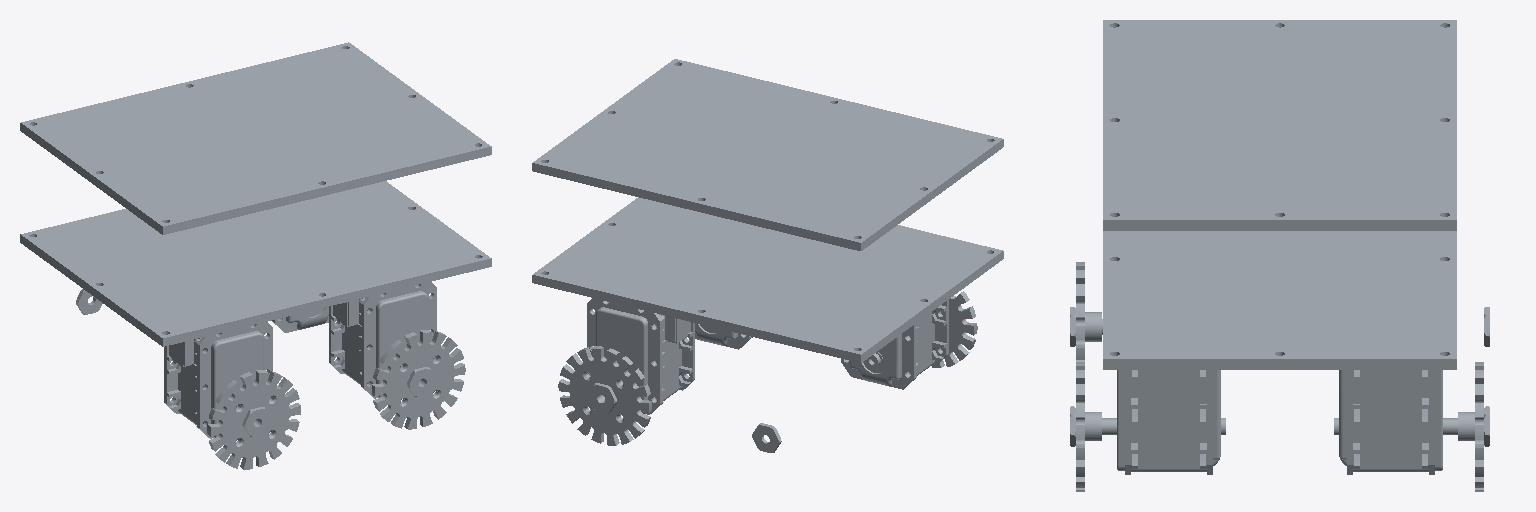
URDF robot description (omnirobot):
<?xml version="1.0" ?>
<!-- =================================================================================== -->
<!-- |    This document was autogenerated by xacro from src/omnirobot_description/urdf/main.xacro | -->
<!-- |    EDITING THIS FILE BY HAND IS NOT RECOMMENDED                                 | -->
<!-- =================================================================================== -->
<robot name="omnirobot">

  <!-- ##################################################################################################### -->
  <material name="Orange">
    <color rgba="1.0 0.4 0.0 1.0"/>
  </material>
  <material name="Grey">
    <color rgba="0.7 0.7 0.7 1.0"/>
  </material>
  <material name="DarkGrey">
    <color rgba="0.3 0.3 0.3 1.0"/>
  </material>
  <material name="White">
    <color rgba="1.0 1.0 1.0 1.0"/>
  </material>
  <material name="Black">
    <color rgba="0.0 0.0 0.0 1.0"/>
  </material>
  <material name="Red">
    <color rgba="1.0 0.0 0.0 1.0"/>
  </material>
  <material name="Green">
    <color rgba="0.0 1.0 0.0 1.0"/>
  </material>
  <material name="Blue">
    <color rgba="0.0 0.0 0.8 1.0"/>
  </material>
  <material name="LightGrey">
    <color rgba="0.82 0.82 0.82 1.0"/>
  </material>
  <!--Generated by RobotCAD, a ROS Workbench for FreeCAD (https://github.com/drfenixion/freecad.robotcad)-->
  <link name="l_MX_001">
    <visual>
      <!--MX_001/MX_001.Part__Feature001.-->
      <origin rpy="-3.1415926535897927 0 0" xyz="-0.015 0.0045 0.016"/>
      <geometry>
        <mesh filename="package://omnirobot_description/meshes/dc07_00a_dummy_none.dae"/>
      </geometry>
    </visual>
    <inertial>
      <mass value="0.05364148533505816"/>
      <origin rpy="-3.1415926535897927 0 0" xyz="-0.015 0.0160155 0.0150318"/>
      <inertia ixx="1.511749261621702e-05" ixy="4.447254957121814e-14" ixz="-2.3950835100348136e-14" iyy="9.28145935548608e-06" iyz="-2.2661589904935743e-07" izz="1.2808173883120847e-05"/>
    </inertial>
  </link>
  <link name="l_MX_003">
    <visual>
      <!--MX_003/MX_002.Part__Feature002.-->
      <origin rpy="-3.1415926535897927 0 0" xyz="-0.015 0.0045 0.016"/>
      <geometry>
        <mesh filename="package://omnirobot_description/meshes/dc07_00a_dummy_none001.dae"/>
      </geometry>
    </visual>
    <inertial>
      <mass value="0.05364148533505816"/>
      <origin rpy="-3.1415926535897927 0 0" xyz="-0.015 0.0160155 0.0150318"/>
      <inertia ixx="1.511749261621702e-05" ixy="4.447254957121814e-14" ixz="-2.3950835100348136e-14" iyy="9.28145935548608e-06" iyz="-2.2661589904935743e-07" izz="1.2808173883120847e-05"/>
    </inertial>
  </link>
  <link name="l_MX_005">
    <visual>
      <!--MX_005/MX_003.Part__Feature003.-->
      <origin rpy="3.1415926535897927 0 0" xyz="0.015 0.0045 0.016"/>
      <geometry>
        <mesh filename="package://omnirobot_description/meshes/dc07_00a_dummy_none002.dae"/>
      </geometry>
    </visual>
    <inertial>
      <mass value="0.05364148533505816"/>
      <origin rpy="3.1415926535897927 0 0" xyz="0.015 0.0160155 0.0150318"/>
      <inertia ixx="1.511749261621702e-05" ixy="4.447254957121814e-14" ixz="-2.3950835100348136e-14" iyy="9.28145935548608e-06" iyz="-2.2661589904935743e-07" izz="1.2808173883120847e-05"/>
    </inertial>
  </link>
  <link name="l_MX_007">
    <visual>
      <!--MX_007/MX_004.Part__Feature004.-->
      <origin rpy="3.1415926535897927 0 0" xyz="-0.015 0.0045 0.016"/>
      <geometry>
        <mesh filename="package://omnirobot_description/meshes/dc07_00a_dummy_none003.dae"/>
      </geometry>
    </visual>
    <inertial>
      <mass value="0.05364148533505816"/>
      <origin rpy="3.1415926535897927 0 0" xyz="-0.015 0.0160155 0.0150318"/>
      <inertia ixx="1.511749261621702e-05" ixy="4.447254957121814e-14" ixz="-2.3950835100348136e-14" iyy="9.28145935548608e-06" iyz="-2.2661589904935743e-07" izz="1.2808173883120847e-05"/>
    </inertial>
  </link>
  <link name="l_OmniWheel001">
    <visual>
      <!--OmniWheel001/OmniWheel004.Part__Feature005.-->
      <origin rpy="3.1415926535897927 0 0" xyz="-0.00480373 -0.000638646 0.0345"/>
      <geometry>
        <mesh filename="package://omnirobot_description/meshes/omnibase_predeterminado.dae"/>
      </geometry>
    </visual>
    <visual>
      <!--OmniWheel001/OmniWheel004.Part__Feature006.-->
      <origin rpy="3.1415926535897927 0 0" xyz="-0.00480373 -0.000638646 0.0345"/>
      <geometry>
        <mesh filename="package://omnirobot_description/meshes/nut_predeterminado.dae"/>
      </geometry>
    </visual>
    <visual>
      <!--OmniWheel001/OmniWheel004.Part__Feature007.-->
      <origin rpy="3.1415926535897927 0 0" xyz="-0.00480373 -0.000638646 0.0345"/>
      <geometry>
        <mesh filename="package://omnirobot_description/meshes/fusion001.dae"/>
      </geometry>
    </visual>
    <collision>
      <!--col__l_OmniWheel001__col_OmniWheel1__BoundCylinder/col_OmniWheel1__BoundCylinder.-->
      <origin rpy="3.1415926535897927 0 0" xyz="0.0 0.0 -0.00555962"/>
      <geometry>
        <cylinder length="0.011119233388594999" radius="0.025"/>
      </geometry>
    </collision>
    <inertial>
      <mass value="0.007756331734211842"/>
      <origin rpy="3.1415926535897927 0 0" xyz="0.0 0.0 -0.00717912"/>
      <inertia ixx="1.0724369027895746e-06" ixy="-2.97042574675288e-16" ixz="-1.1719328085746382e-21" iyy="1.0724369024465381e-06" iyz="1.6543026504223233e-22" izz="2.0925962450240802e-06"/>
    </inertial>
  </link>
  <link name="l_OmniWheel003">
    <visual>
      <!--OmniWheel003/OmniWheel005.Part__Feature008.-->
      <origin rpy="3.1415926535897927 0 0" xyz="-0.00480373 -0.000638646 0.0345"/>
      <geometry>
        <mesh filename="package://omnirobot_description/meshes/omnibase_predeterminado001.dae"/>
      </geometry>
    </visual>
    <visual>
      <!--OmniWheel003/OmniWheel005.Part__Feature009.-->
      <origin rpy="3.1415926535897927 0 0" xyz="-0.00480373 -0.000638646 0.0345"/>
      <geometry>
        <mesh filename="package://omnirobot_description/meshes/nut_predeterminado001.dae"/>
      </geometry>
    </visual>
    <visual>
      <!--OmniWheel003/OmniWheel005.Part__Feature010.-->
      <origin rpy="3.1415926535897927 0 0" xyz="-0.00480373 -0.000638646 0.0345"/>
      <geometry>
        <mesh filename="package://omnirobot_description/meshes/fusion002.dae"/>
      </geometry>
    </visual>
    <collision>
      <!--col__l_OmniWheel003__col_OmniWheel2__BoundCylinder/col_OmniWheel2__BoundCylinder.-->
      <origin rpy="3.1415926535897927 0 0" xyz="0.0 0.0 -0.00555962"/>
      <geometry>
        <cylinder length="0.011119233388594999" radius="0.025"/>
      </geometry>
    </collision>
    <inertial>
      <mass value="0.007756331734211842"/>
      <origin rpy="3.1415926535897927 0 0" xyz="0.0 0.0 -0.00717912"/>
      <inertia ixx="1.0724369027895746e-06" ixy="-2.97042574675288e-16" ixz="-1.1719328085746382e-21" iyy="1.0724369024465381e-06" iyz="1.6543026504223233e-22" izz="2.0925962450240802e-06"/>
    </inertial>
  </link>
  <link name="l_OmniWheel005">
    <visual>
      <!--OmniWheel005/OmniWheel006.Part__Feature011.-->
      <origin rpy="-3.141592653589793 0 0" xyz="-0.00480373 -0.000638646 0.0345"/>
      <geometry>
        <mesh filename="package://omnirobot_description/meshes/omnibase_predeterminado002.dae"/>
      </geometry>
    </visual>
    <visual>
      <!--OmniWheel005/OmniWheel006.Part__Feature012.-->
      <origin rpy="-3.141592653589793 0 0" xyz="-0.00480373 -0.000638646 0.0345"/>
      <geometry>
        <mesh filename="package://omnirobot_description/meshes/nut_predeterminado002.dae"/>
      </geometry>
    </visual>
    <visual>
      <!--OmniWheel005/OmniWheel006.Part__Feature013.-->
      <origin rpy="-3.141592653589793 0 0" xyz="-0.00480373 -0.000638646 0.0345"/>
      <geometry>
        <mesh filename="package://omnirobot_description/meshes/fusion003.dae"/>
      </geometry>
    </visual>
    <collision>
      <!--col__l_OmniWheel005__col_OmniWheel3__BoundCylinder/col_OmniWheel3__BoundCylinder.-->
      <origin rpy="-3.141592653589793 0 0" xyz="0.0 0.0 -0.00555962"/>
      <geometry>
        <cylinder length="0.011119233388594999" radius="0.025"/>
      </geometry>
    </collision>
    <inertial>
      <mass value="0.007756331734211842"/>
      <origin rpy="-3.141592653589793 0 0" xyz="0.0 0.0 -0.00717912"/>
      <inertia ixx="1.0724369027895746e-06" ixy="-2.97042574675288e-16" ixz="-1.1719328085746382e-21" iyy="1.0724369024465381e-06" iyz="1.6543026504223233e-22" izz="2.0925962450240802e-06"/>
    </inertial>
  </link>
  <link name="l_OmniWheel007">
    <visual>
      <!--OmniWheel007/OmniWheel007.Part__Feature014.-->
      <origin rpy="-3.1415926535897927 0 0" xyz="-0.00480373 -0.000638646 0.0345"/>
      <geometry>
        <mesh filename="package://omnirobot_description/meshes/omnibase_predeterminado003.dae"/>
      </geometry>
    </visual>
    <visual>
      <!--OmniWheel007/OmniWheel007.Part__Feature015.-->
      <origin rpy="-3.1415926535897927 0 0" xyz="-0.00480373 -0.000638646 0.0345"/>
      <geometry>
        <mesh filename="package://omnirobot_description/meshes/nut_predeterminado003.dae"/>
      </geometry>
    </visual>
    <visual>
      <!--OmniWheel007/OmniWheel007.Part__Feature016.-->
      <origin rpy="-3.1415926535897927 0 0" xyz="-0.00480373 -0.000638646 0.0345"/>
      <geometry>
        <mesh filename="package://omnirobot_description/meshes/fusion004.dae"/>
      </geometry>
    </visual>
    <collision>
      <!--col__l_OmniWheel007__col_OmniWheel4__BoundCylinder/col_OmniWheel4__BoundCylinder.-->
      <origin rpy="-3.1415926535897927 0 0" xyz="0.0 0.0 -0.00555962"/>
      <geometry>
        <cylinder length="0.011119233388594999" radius="0.025"/>
      </geometry>
    </collision>
    <inertial>
      <mass value="0.007756331734211842"/>
      <origin rpy="-3.1415926535897927 0 0" xyz="0.0 0.0 -0.00717912"/>
      <inertia ixx="1.0724369027895746e-06" ixy="-2.97042574675288e-16" ixz="-1.1719328085746382e-21" iyy="1.0724369024465381e-06" iyz="1.6543026504223233e-22" izz="2.0925962450240802e-06"/>
    </inertial>
  </link>
  <link name="base_link">
    <visual>
      <!--Assembly001/Assembly002.Part__Feature.-->
      <origin rpy="0 0 0" xyz="0.0 0.0 0.017"/>
      <geometry>
        <mesh filename="package://omnirobot_description/meshes/fusion.dae"/>
      </geometry>
    </visual>
    <collision>
      <!--col__l_Assembly001__col_Assembly001__BoundBox/col_Assembly001__BoundBox.-->
      <origin rpy="0 0 0" xyz="0.0 0.0 0.04475"/>
      <geometry>
        <box size="0.16 0.11 0.0555"/>
      </geometry>
    </collision>
    <inertial>
      <mass value="0.13785683395530818"/>
      <origin rpy="0 0 0" xyz="0.0 0.0 0.0259647"/>
      <inertia ixx="0.0002149198329945064" ixy="-2.65453004346353e-09" ixz="6.710717637660547e-10" iyy="0.00031333582382853185" iyz="2.0186783542406698e-10" izz="0.00047001863956406246"/>
    </inertial>
  </link>
  <link name="l_Body001">
    <visual>
      <!--Body001/Body002.-->
      <origin rpy="0 0 0" xyz="0.0 0.0 0.0"/>
      <geometry>
        <mesh filename="package://omnirobot_description/meshes/body.dae"/>
      </geometry>
    </visual>
    <inertial>
      <mass value="0.09487173723413107"/>
      <origin rpy="0 0 0" xyz="0.0 0.0 0.002"/>
      <inertia ixx="0.00011355729857447346" ixy="2.8690556064248077e-21" ixz="6.766640581190585e-24" iyy="0.00020172717829805288" iyz="0.0" izz="0.00031503148433323526"/>
    </inertial>
  </link>

  <!-- ##################################################################################################### -->
  <link name="l_Body002">
    <visual>
      <origin rpy="0 0 0" xyz="0.0 0.0 0.0"/>
      <geometry>
        <mesh filename="package://omnirobot_description/meshes/body.dae"/>
      </geometry>
    </visual>
    <inertial>
      <mass value="0.09487173723413107"/>
      <origin rpy="0 0 0" xyz="0.0 0.0 0.002"/>
      <inertia ixx="0.00011355729857447346" ixy="2.8690556064248077e-21" ixz="6.766640581190585e-24" iyy="0.00020172717829805288" iyz="0.0" izz="0.00031503148433323526"/>
    </inertial>
  </link>

  <!-- ##################################################################################################### -->
  <joint name="MX1_Base_LeftTop_Joint" type="fixed">
    <parent link="base_link"/>
    <child link="l_MX_001"/>
    <origin rpy="1.5707963267948968 0 0" xyz="0.055 0.05268 0.0295"/>
  </joint>

  <!-- ##################################################################################################### -->
  <joint name="MX2_Base_LeftBottom_Joint" type="fixed">
    <parent link="base_link"/>
    <child link="l_MX_003"/>
    <origin rpy="1.5707963267948968 0 0" xyz="-0.025 0.05268 0.0295"/>
  </joint>

  <!-- ##################################################################################################### -->
  <joint name="MX3_Base_RightTop_Joint" type="fixed">
    <parent link="base_link"/>
    <child link="l_MX_005"/>
    <origin rpy="1.5707963267948968 0 -3.141592653589793" xyz="0.055 -0.05268 0.0295"/>
  </joint>

  <!-- ##################################################################################################### -->
  <joint name="MX4_Base_RightBottom_Joint" type="fixed">
    <parent link="base_link"/>
    <child link="l_MX_007"/>
    <origin rpy="1.570796326794897 0 3.141592653589793" xyz="-0.055 -0.05268 0.0295"/>
  </joint>

  <!-- ##################################################################################################### -->
  <joint name="Omni1_MX1_Joint" type="continuous">
    <parent link="l_MX_001"/>
    <child link="l_OmniWheel001"/>
    <origin rpy="0 0 0" xyz="-0.015 0.0045 -0.0076"/>
    <axis xyz="0 0 -1"/>
    <limit effort="10.0" velocity="20.0"/>
  </joint>

  <!-- ##################################################################################################### -->
  <joint name="Omni2_MX2_Joint" type="continuous">
    <parent link="l_MX_003"/>
    <child link="l_OmniWheel003"/>
    <origin rpy="0 0 0" xyz="-0.015 0.0045 -0.0076"/>
    <axis xyz="0 0 -1"/>
    <limit effort="10.0" velocity="20.0"/>
  </joint>

  <!-- ##################################################################################################### -->
  <joint name="Omni3_MX3_Joint" type="continuous">
    <parent link="l_MX_005"/>
    <child link="l_OmniWheel005"/>
    <origin rpy="0 0 0" xyz="0.015 0.0045 -0.0076"/>
    <axis xyz="0 0 1"/>
    <limit effort="10.0" velocity="20.0"/>
  </joint>

  <!-- ##################################################################################################### -->
  <joint name="Omni4_MX4_Joint" type="continuous">
    <parent link="l_MX_007"/>
    <child link="l_OmniWheel007"/>
    <origin rpy="0 0 0" xyz="-0.015 0.0045 -0.0076"/>
    <axis xyz="0 0 1"/>
    <limit effort="10.0" velocity="20.0"/>
  </joint>

  <!-- ##################################################################################################### -->
  <joint name="base2_base_Joint" type="fixed">
    <parent link="base_link"/>
    <child link="l_Body001"/>
    <origin rpy="0 0 0" xyz="0.0 0.0 0.074"/>
  </joint>

  <link name="base_footprint"/>

  <joint name="base_footprint_joint" type="fixed">
    <parent link="base_footprint"/>
    <child link="base_link"/>
    <origin rpy="0 0 0" xyz="0 0 0"/>
  </joint>

  <!-- ##################################################################################################### -->
  <joint name="base3_base2_Joint" type="fixed">
    <parent link="l_Body001"/>
    <child link="l_Body002"/>
    <origin rpy="0 0 0" xyz="0.0 0.0 0.052"/>
  </joint>

  <!-- ##################################################################################################### -->
  <link name="camera_link">
    <visual>
      <!--MX_001/MX_001.Part__Feature001.-->
      <origin rpy="3.14159274 0 -1.57079637" xyz="0.0 0.050 0.047"/>
      <geometry>
        <mesh filename="package://omnirobot_description/meshes/c920_Camera.dae"/>
      </geometry>
    </visual>
    <collision>
      <origin rpy="0 0 0" xyz="-0.015 0.0 0.037"/>
      <geometry>
        <box size="0.03 0.06 0.04"/>
      </geometry>
    </collision>
    <inertial>
      <mass value="0.1"/>
      <origin rpy="0 0 0" xyz="-0.015 0.0 0.037"/>
      <inertia ixx="1e-4" ixy="0.0" ixz="0.0" iyy="1e-4" iyz="0.0" izz="1e-4"/>
    </inertial>
  </link>

  <joint name="camera_base3_Joint" type="fixed">
    <parent link="l_Body002"/>
    <child link="camera_link"/>
    <origin rpy="0 0 0" xyz="0.08 0 0"/>
  </joint>

  <!-- ##################################################################################################### -->
  <link name="imu_link">
    <visual>
      <origin rpy="1.57079637 0 1.57079637" xyz="-0.04 0.01 0.005"/>
      <geometry>
        <mesh filename="package://omnirobot_description/meshes/imu.dae"/>
      </geometry>
    </visual>
    <collision>
      <origin xyz="0.0 0.0 0.005" rpy="1.57079637 0 1.57079637"/>
      <geometry>
        <box size="0.013000000000000022 0.0025 0.018"/>
      </geometry>
    </collision>
    <inertial>
      <mass value="0.00041087417313808805"/>
      <origin xyz="0.0 0.0 0.005" rpy="1.57079637 0 1.57079637"/>
      <inertia ixx="1.0555197361064874e-08" ixy="-2.8975276856913868e-11" ixz="-1.0164903333940775e-10" 
              iyy="1.5864238302639282e-08" iyz="-7.458568791014622e-11" 
              izz="5.515486999206261e-09"/>
    </inertial>
  </link>

  <joint name="imu_base2_Joint" type="fixed">
    <parent link="l_Body001"/>
    <child link="imu_link"/>
    <origin rpy="0 0 0" xyz="0.0 0.0 0.005"/>
  </joint>

  <!-- ##################################################################################################### -->
  <link name="lidar_link">
    <visual>
      <origin rpy="1.57079637 0 0" xyz="0.0 0.0 0.0"/>
      <geometry>
        <mesh filename="package://omnirobot_description/meshes/rplidarc1.dae"/>
      </geometry>
    </visual>

    <collision>
      <origin xyz="0.0 0.0 0.02" rpy="1.57079637 0 0"/>
      <geometry>
        <box size="0.055600000000000004 0.0413 0.064801"/>
      </geometry>
    </collision>

    <inertial>
      <mass value="0.12711800604277823"/>
      <origin xyz="0.0 0.0 0.02" rpy="1.57079637 0 0"/>
      <inertia ixx="4.3787430024100665e-05" ixy="-8.885962869916519e-12" ixz="-5.172762523421504e-11" iyy="5.393805754137031e-05" iyz="-1.3069075325287403e-07" izz="4.346439342229056e-05"/>
    </inertial>
  </link>

  <joint name="lidar_base2_Joint" type="fixed">
    <parent link="l_Body001"/>
    <child link="lidar_link"/>
    <origin rpy="0 0 0" xyz="0.05 0.0 0.008"/>
  </joint>

  <!-- ##################################################################################################### -->
  <webots>
    <device reference="camera" type="Camera">
      <ros>
        <enabled>true</enabled>
        <topicName>/camera</topicName>
        <alwaysOn>true</alwaysOn>
        <frameName>camera_link</frameName>
        <imageSuffix>/image_raw</imageSuffix>
        <cameraInfoSuffix>/camera_info</cameraInfoSuffix>
      </ros>
    </device>

    <device reference="lidar" type="Lidar">
      <ros>
        <enabled>true</enabled>
        <topicName>/myscan</topicName>
        <alwaysOn>true</alwaysOn>
        <frameName>lidar_link</frameName>
        <updateRate>10</updateRate>
      </ros>
    </device>

    <plugin type="webots_ros2_control::Ros2Control"/>

    <plugin type="webots_ros2_driver::Ros2IMU">
      <enabled>true</enabled>
      <topicName>/imu</topicName>
      <alwaysOn>true</alwaysOn>
      <frameName>imu_link</frameName>

      <inertialUnitName>imu</inertialUnitName>
      <gyroName>gyro</gyroName>
      <accelerometerName>accelerometer</accelerometerName>
    </plugin>

  </webots>

  <!-- ##################################################################################################### -->
  <ros2_control name="WebotsControl" type="system">
    <hardware>
      <plugin>webots_ros2_control::Ros2ControlSystem</plugin>
    </hardware>
    <joint name="Omni1_MX1_Joint">
      <state_interface name="position"/>
      <command_interface name="velocity"/>
    </joint>
    <joint name="Omni2_MX2_Joint">
      <state_interface name="position"/>
      <command_interface name="velocity"/>
    </joint>
    <joint name="Omni3_MX3_Joint">
      <state_interface name="position"/>
      <command_interface name="velocity"/>
    </joint>
    <joint name="Omni4_MX4_Joint">
      <state_interface name="position"/>
      <command_interface name="velocity"/>
    </joint>
  </ros2_control>
</robot>

--- Facts derived from the render (not from the file) ---
The picture shows the robot from 3 angles, left to right: view 1: azimuth 30°, elevation 25°; view 2: azimuth 150°, elevation 25°; view 3: azimuth 270°, elevation 25°; orthographic projection.
Robot: omnirobot — 15 links, 14 joints (4 continuous, 10 fixed); root link base_footprint; default pose: every joint at zero.
Links seen in each view (by area): view 1: l_Body002, l_Body001, l_MX_007, l_MX_005, l_OmniWheel007, l_OmniWheel005, l_MX_001; view 2: l_Body002, l_Body001, l_MX_001, l_OmniWheel001, l_MX_007, l_OmniWheel007, l_MX_005, l_OmniWheel003; view 3: l_Body002, l_Body001, l_MX_001, l_MX_005, l_OmniWheel001, l_OmniWheel005, l_OmniWheel007.
Link boxes in pixels (box(x1,y1,x2,y2)): l_Body002: box(20, 42, 491, 234); l_Body001: box(20, 181, 491, 346); l_MX_007: box(164, 322, 272, 438); l_MX_005: box(329, 282, 436, 398); l_OmniWheel007: box(207, 370, 300, 469); l_OmniWheel005: box(372, 330, 465, 429); l_MX_001: box(272, 307, 328, 332); l_Body002: box(532, 59, 1003, 250); l_Body001: box(532, 197, 1003, 362); l_MX_001: box(587, 298, 694, 414); l_OmniWheel001: box(558, 346, 651, 445); l_MX_007: box(841, 300, 948, 389); l_OmniWheel007: box(932, 291, 977, 367); l_MX_005: box(695, 323, 752, 349); l_OmniWheel003: box(752, 423, 781, 452); l_Body002: box(1103, 20, 1456, 230); l_Body001: box(1103, 231, 1456, 369); l_MX_001: box(1334, 370, 1457, 474); l_MX_005: box(1102, 370, 1225, 474); l_OmniWheel001: box(1458, 362, 1489, 491); l_OmniWheel005: box(1070, 362, 1101, 491); l_OmniWheel007: box(1070, 262, 1101, 361).
Bounding box of the posed robot: 0.16 × 0.1426 × 0.1179 m (x, y, z).
Meshes: 21 distinct files referenced, 12 mesh visuals loaded (11 Collada DAE); not drawn: 10 (reference not matched to a file when rendering).
